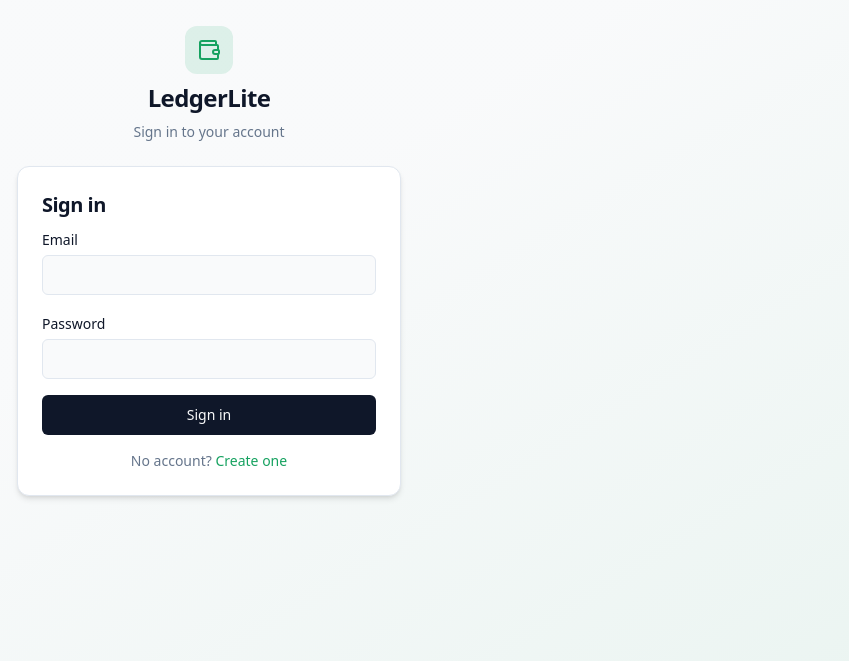
Login page › shows a validation error for invalid email
This screenshot has width=849, height=661.
In the field labelled "Email": (209, 275) [42,255,376,295], type "not-an-email"
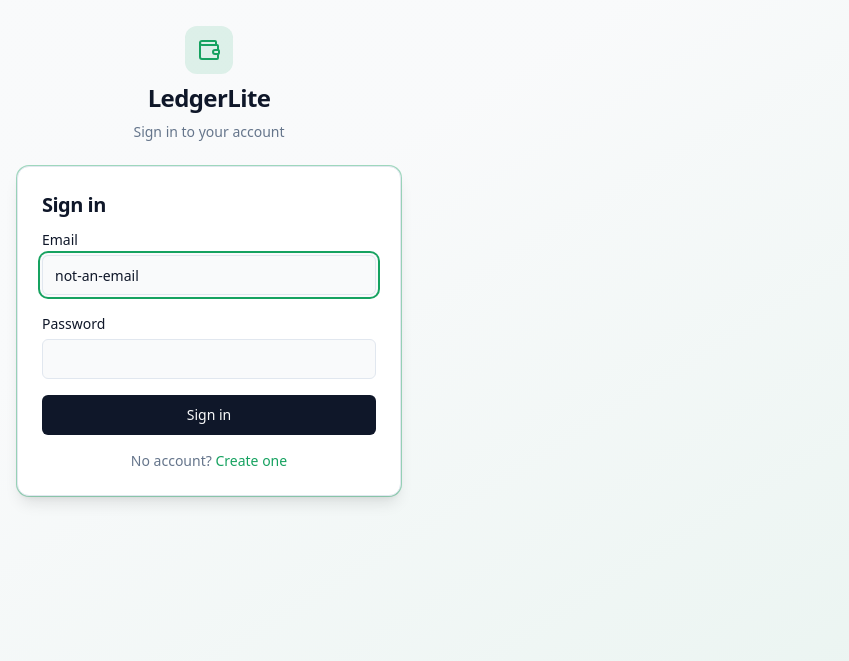
In the password field labelled "Password": (209, 359) [42,339,376,379], type "password123"
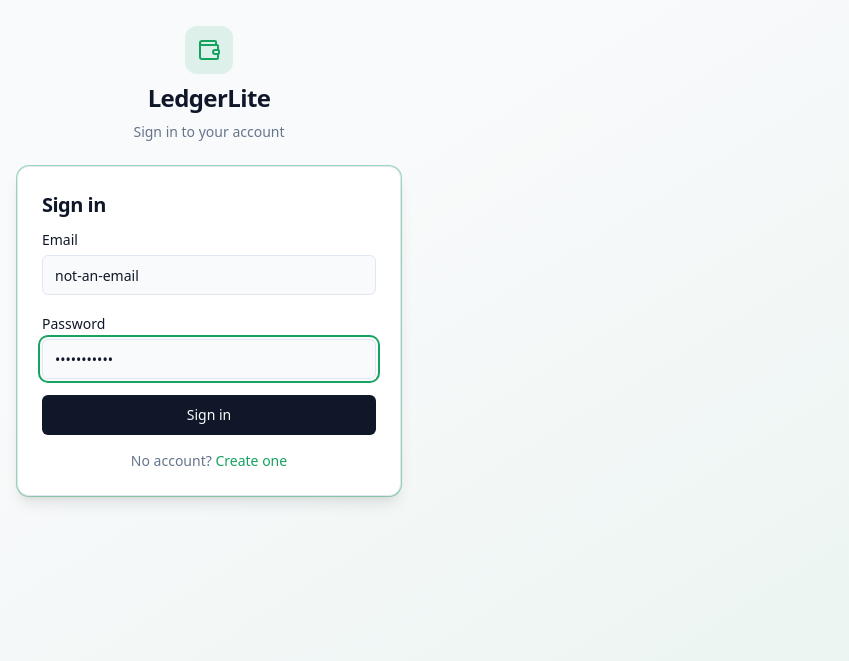
Click the button "Sign in": (209, 415) [42,395,376,435]
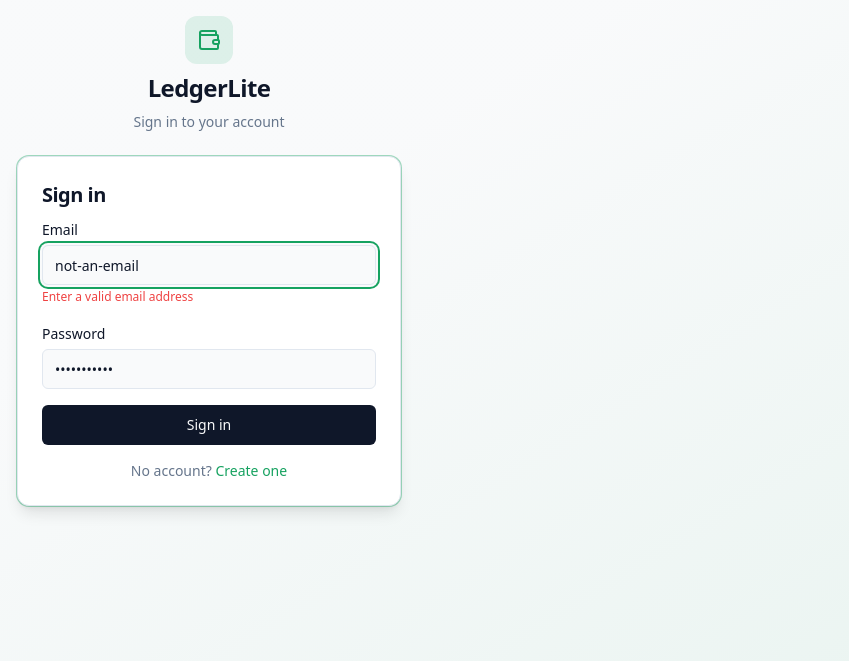
Now the text "Enter a valid email address" is shown, box [42,288,193,305]
